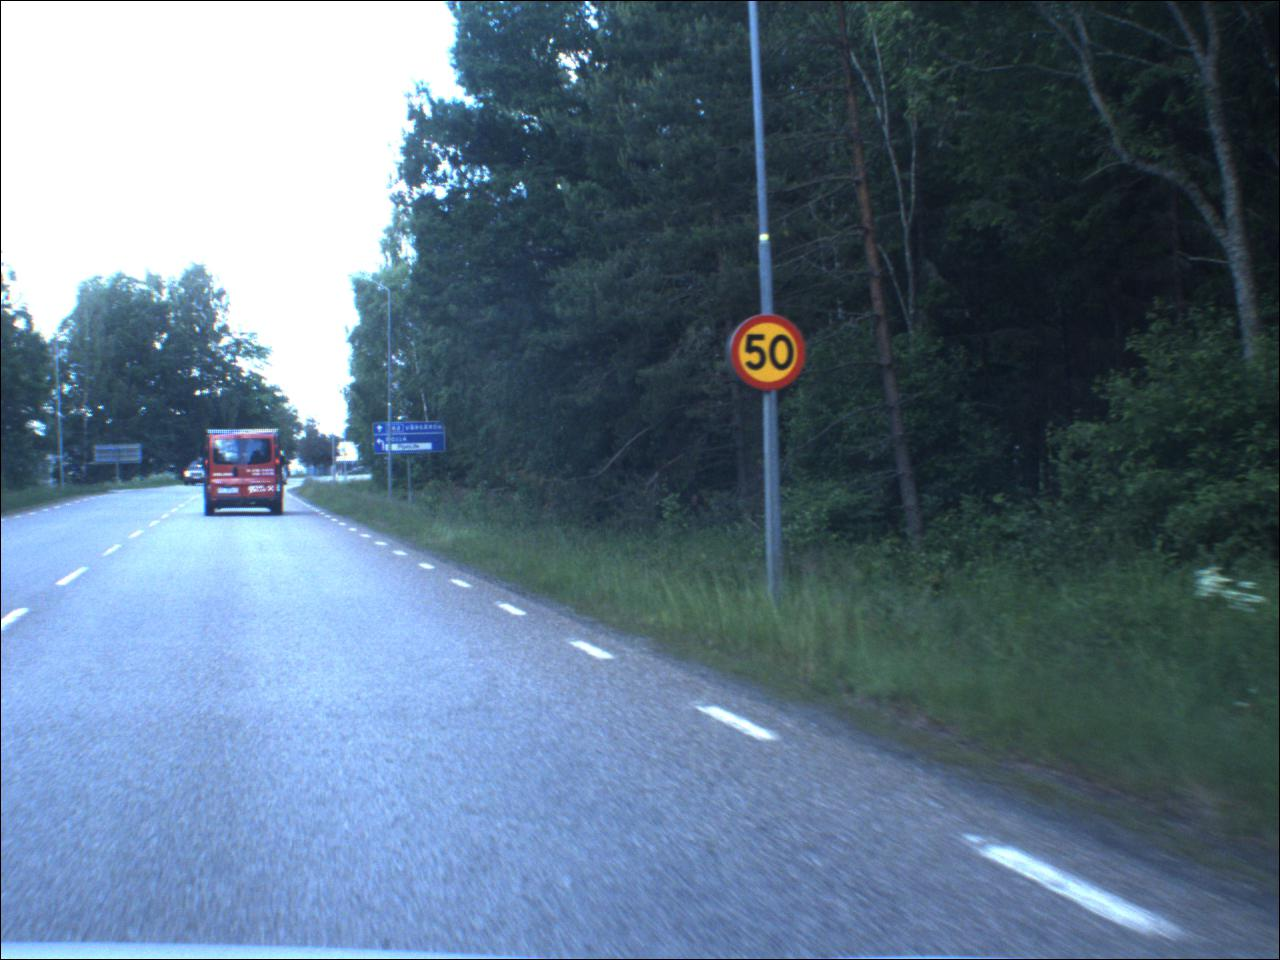50_SIGN: (732, 314, 810, 395)
